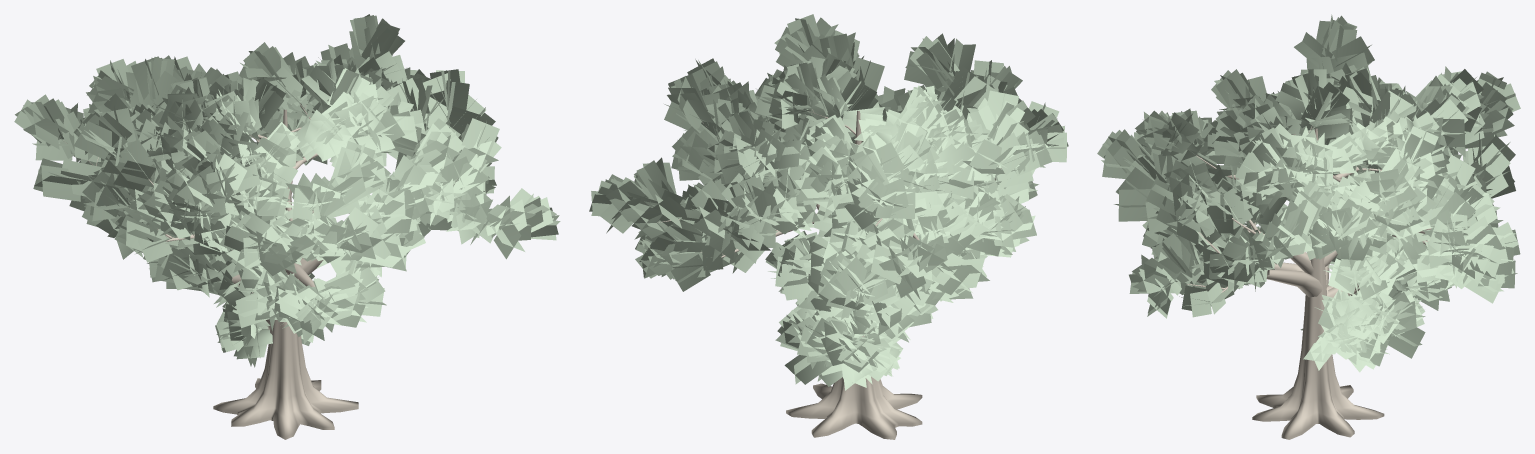
The model's file is tree-4.gltf.
3 renders of one model, left to right at view 1: azimuth 30°, elevation 25°; view 2: azimuth 150°, elevation 25°; view 3: azimuth 270°, elevation 25°, orthographic. The views are drawn at different scales.
Parts seen in each view (by area): view 1: TerraWeave Arbor; view 2: TerraWeave Arbor; view 3: TerraWeave Arbor.
Part boxes in pixels (x1,y1,x2,y2): TerraWeave Arbor: (14, 14, 560, 439); TerraWeave Arbor: (589, 14, 1068, 439); TerraWeave Arbor: (1097, 14, 1520, 439).
Size of the model in its own units: 12.78 by 10.46 by 12.65.
